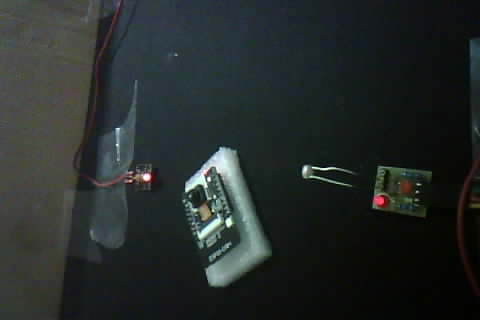esp32: (176, 161, 263, 276)
